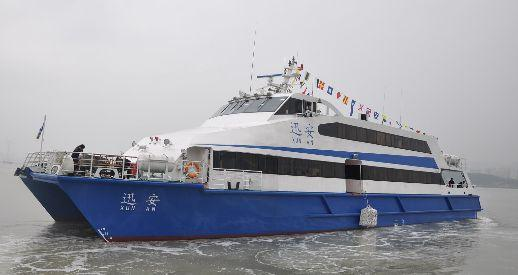yacht: (12, 60, 484, 241)
